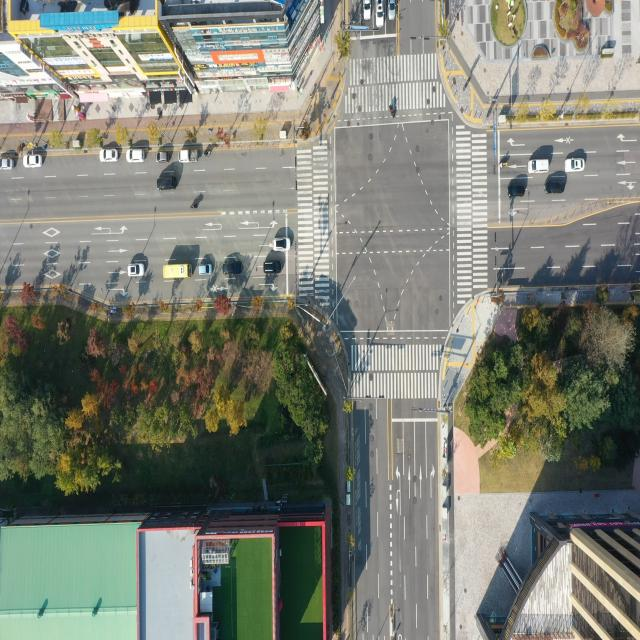car: (158, 176, 178, 191), (528, 160, 549, 174), (564, 159, 584, 173), (222, 263, 242, 277), (100, 148, 120, 162), (25, 156, 44, 170), (128, 150, 147, 164), (377, 0, 386, 28), (546, 181, 565, 194), (130, 264, 146, 278), (362, 0, 373, 20), (510, 185, 528, 197), (1, 158, 16, 172), (274, 238, 290, 251), (265, 264, 280, 276), (199, 266, 213, 278), (386, 0, 394, 20), (157, 150, 170, 162)
small_bus: (163, 264, 192, 282)
small_truck: (178, 148, 199, 164)
